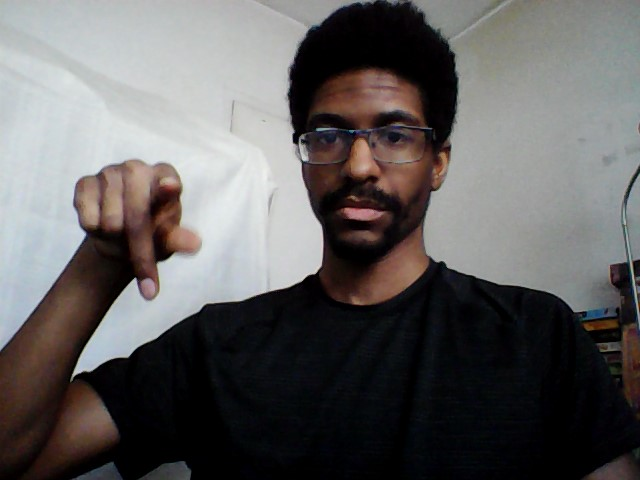p: (69, 155, 206, 308)
